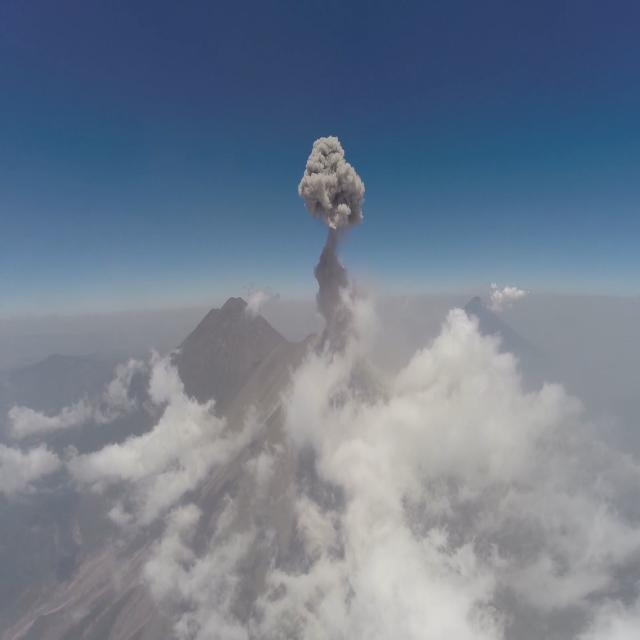Plume: (298, 128, 366, 341)
